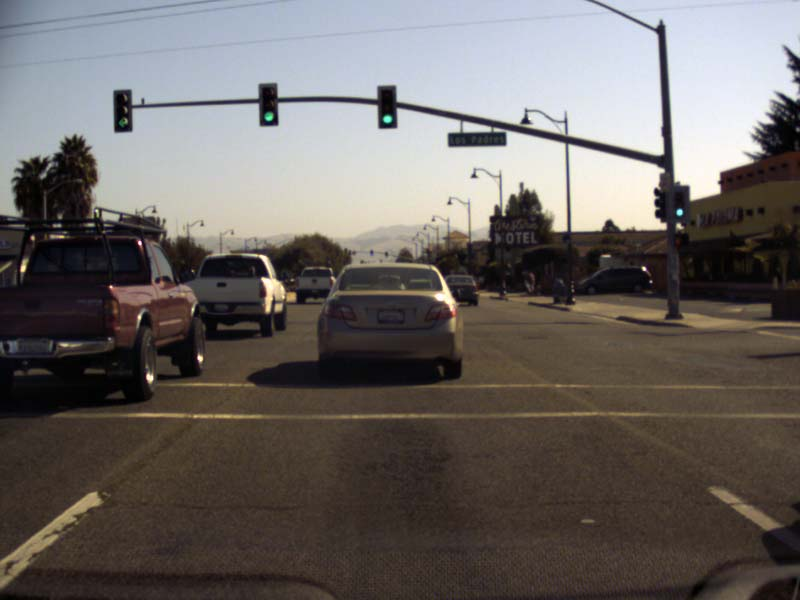Green: (258, 83, 277, 126), (113, 89, 132, 130), (377, 86, 395, 129), (674, 192, 685, 218)
